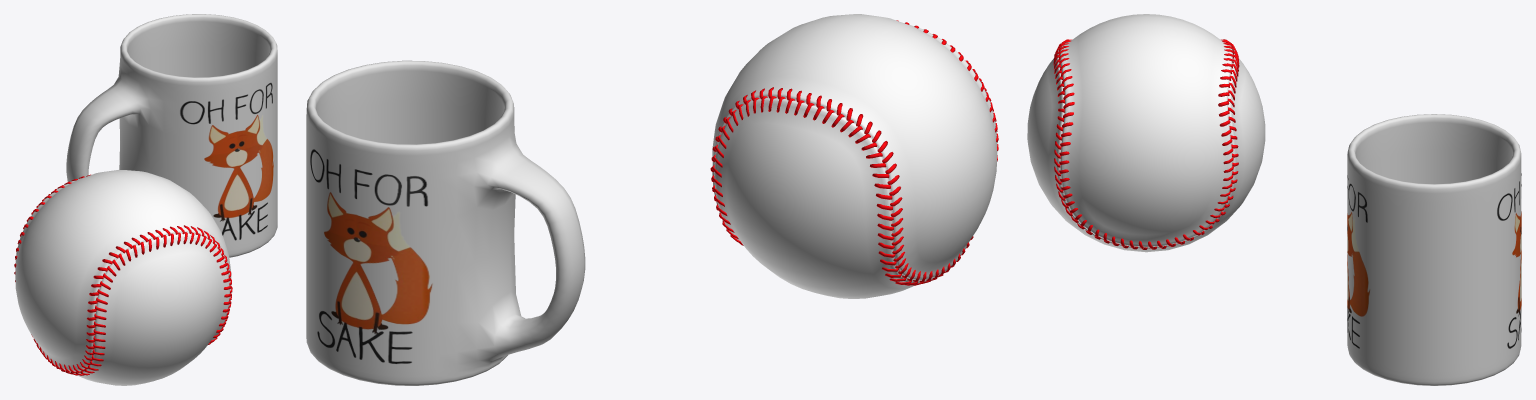
File: gltf.gltf
3 renders of one model, left to right at view 1: azimuth 30°, elevation 25°; view 2: azimuth 150°, elevation 25°; view 3: azimuth 270°, elevation 25°, orthographic. The views are drawn at different scales.
Parts seen in each view (by area): view 1: Bola, Whte Mug, Print Back, Costuras; view 2: Whte Mug, Bola, Print Front, Costuras; view 3: Whte Mug, Bola, Costuras, Print Back, Print Front.
Part boxes in pixels (x1,y1,x2,y2): Bola: (15,169,231,385); Whte Mug: (66,14,277,257); Print Back: (179,82,273,240); Costuras: (14,174,232,375); Whte Mug: (306,60,585,385); Bola: (712,14,997,298); Print Front: (310,149,433,364); Costuras: (710,20,998,285); Whte Mug: (1347,114,1521,385); Bola: (1027,14,1265,252); Costuras: (1053,39,1239,249); Print Back: (1347,175,1370,348); Print Front: (1496,173,1521,349).
Size of what is drawn, in the model's own units: 1.48 by 0.7508 by 1.56.
Materials: 4 (3 with a texture image).
